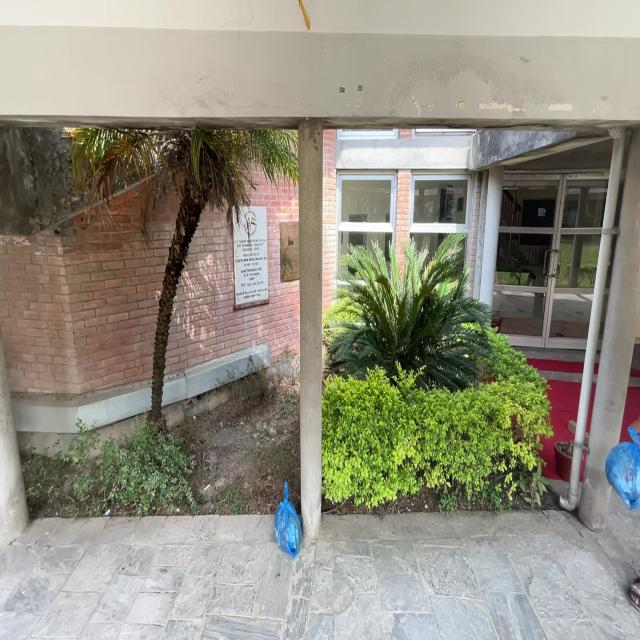garbage: (266, 482, 318, 570)
